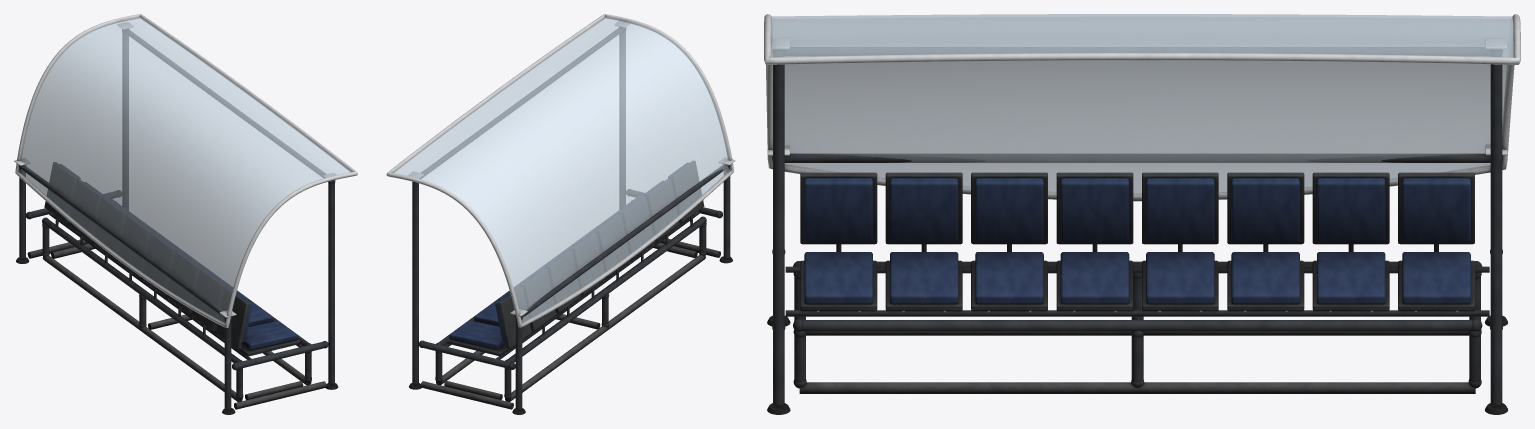
Rendered from banca.obj.
3 renders of one model, left to right at view 1: azimuth 30°, elevation 25°; view 2: azimuth 150°, elevation 25°; view 3: azimuth 270°, elevation 25°, orthographic. The views are drawn at different scales.
Visible parts, largest first — view 1: techo_policarbonato, marco_techo, tubo_Tubo_adelante_abajo, tubo_Tubo_adelante_arriba, larguero_techo__25, poste_Cube_013, larguero_techo_5, poste_Cube_014, asiento_cojin_1, respaldo_concha_2, respaldo_concha_3, respaldo_concha_5 (+14 smaller); view 2: techo_policarbonato, marco_techo, tubo_Tubo_adelante_abajo, tubo_Tubo_adelante_arriba, larguero_techo__25, poste_Cube_014, larguero_techo_5, poste_Cube_013, asiento_cojin_8, respaldo_concha_7, respaldo_concha_5, respaldo_concha_6 (+14 smaller); view 3: techo_policarbonato, marco_techo, tubo_Tubo_arriba_atras, tubo_Tubo_atras_abajo, larguero_techo__25, larguero_techo_5, respaldo_cojin_4, poste_Cube_014, respaldo_cojin_3, respaldo_cojin_5, respaldo_cojin_8, respaldo_cojin_1 (+31 smaller).
Part boxes in pixels (x1,y1,x2,y2): techo_policarbonato: (18,16,351,323); marco_techo: (15,14,357,328); tubo_Tubo_adelante_abajo: (43,255,242,402); tubo_Tubo_adelante_arriba: (43,219,239,362); larguero_techo__25: (21,166,224,317); poste_Cube_013: (328,180,334,384); larguero_techo_5: (125,29,326,177); poste_Cube_014: (122,33,128,210); asiento_cojin_1: (241,321,297,349); respaldo_concha_2: (191,270,224,331); respaldo_concha_3: (167,252,199,313); respaldo_concha_5: (118,216,150,277); techo_policarbonato: (392,16,731,322); marco_techo: (386,14,733,327); tubo_Tubo_adelante_abajo: (505,254,705,401); tubo_Tubo_adelante_arriba: (507,218,705,362); larguero_techo__25: (522,164,726,317); poste_Cube_014: (412,182,418,383); larguero_techo_5: (419,27,623,178); poste_Cube_013: (619,31,625,209); asiento_cojin_8: (449,320,505,349); respaldo_concha_7: (523,269,556,330); respaldo_concha_5: (572,233,605,294); respaldo_concha_6: (548,251,580,312); techo_policarbonato: (771,14,1513,195); marco_techo: (764,14,1520,201); tubo_Tubo_arriba_atras: (802,320,1472,331); tubo_Tubo_atras_abajo: (799,382,1475,393); larguero_techo__25: (784,153,1490,162); larguero_techo_5: (783,47,1491,55); respaldo_cojin_4: (1060,178,1129,241); poste_Cube_014: (1490,49,1502,405); respaldo_cojin_3: (975,178,1043,241); respaldo_cojin_5: (1146,178,1214,241); respaldo_cojin_8: (1402,178,1470,241); respaldo_cojin_1: (804,178,872,241).
Bounding box in the file's own units: 3.84 × 5.99 × 10.97.
Materials: 2 (2 with a texture image).
